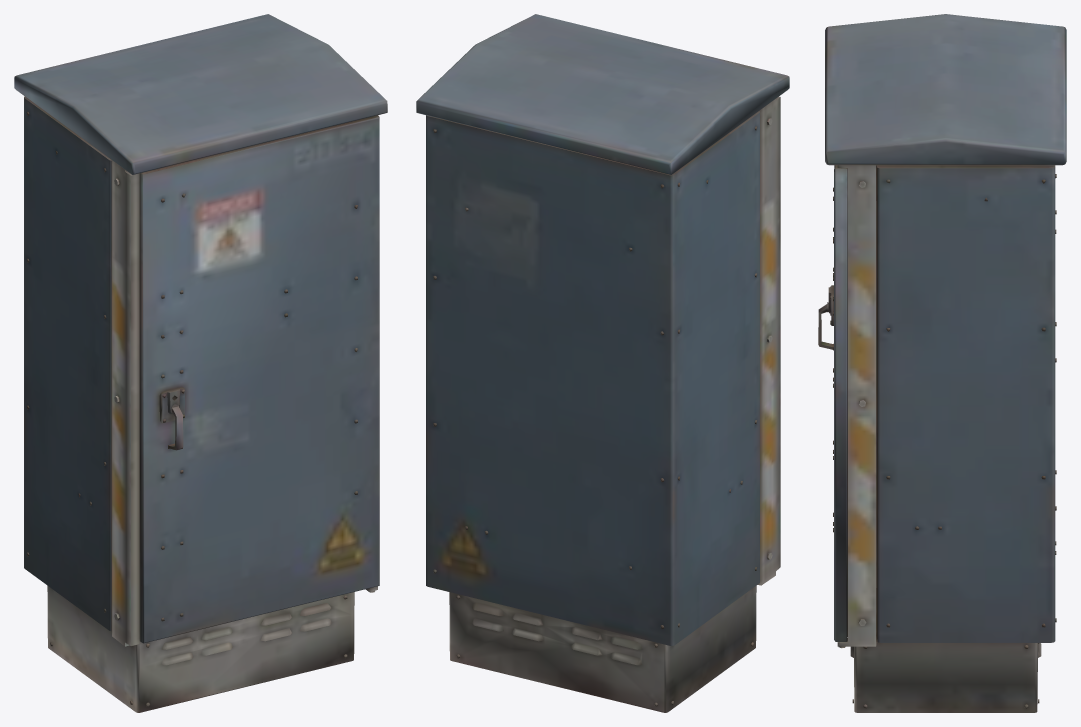
File: utility_box.glb
3 views of the same model, side by side, from view 1: azimuth 30°, elevation 25°; view 2: azimuth 150°, elevation 25°; view 3: azimuth 270°, elevation 25° (orthographic).
Visible parts, largest first — view 1: utility_box_01_box; view 2: utility_box_01_box; view 3: utility_box_01_box.
Boxes of the visible parts, x1,y1,x2,y2 form: utility_box_01_box: (14, 14, 387, 712); utility_box_01_box: (416, 14, 789, 712); utility_box_01_box: (818, 14, 1066, 712).
Bounding box in the file's own units: 0.52 × 1.12 × 0.4319.
1 material, 1 textured.
